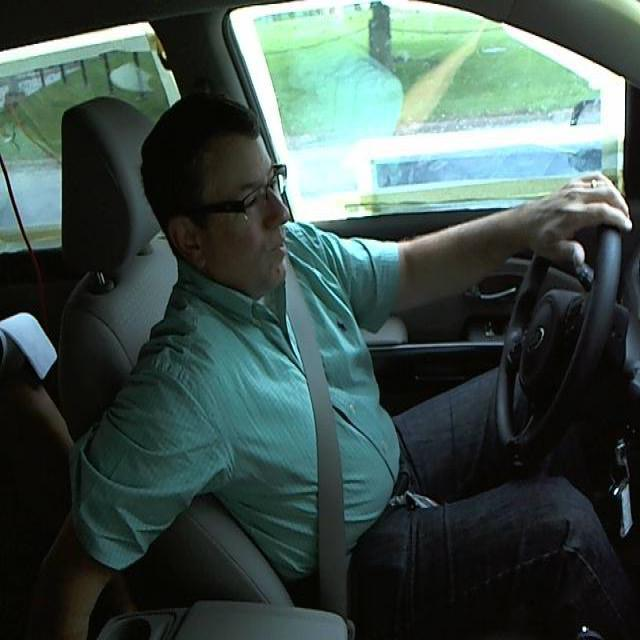seatbelt: (269, 275, 373, 601)
